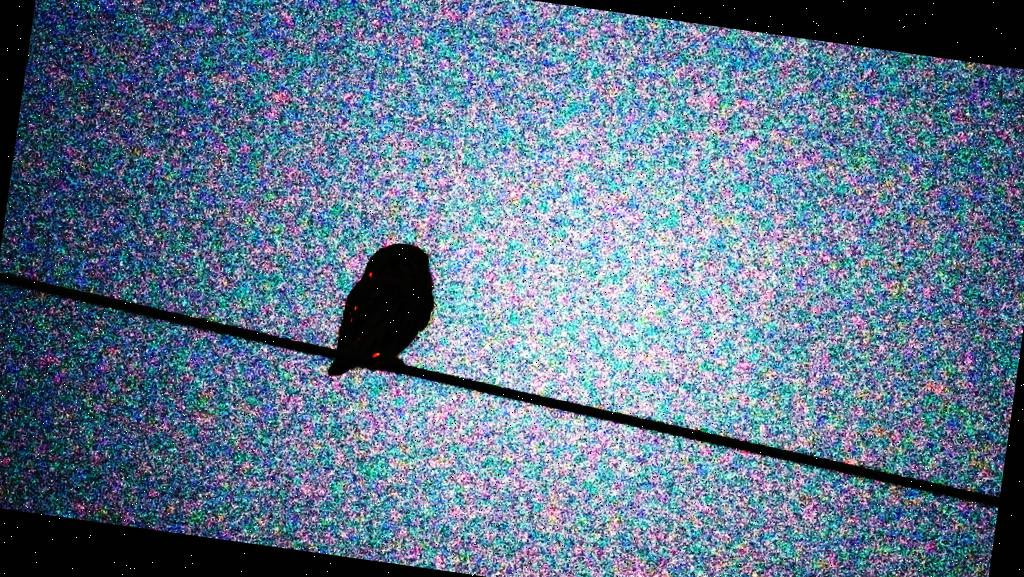Owl: (328, 232, 444, 387)
